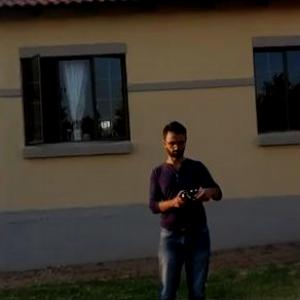follow: (144, 113, 227, 299)
